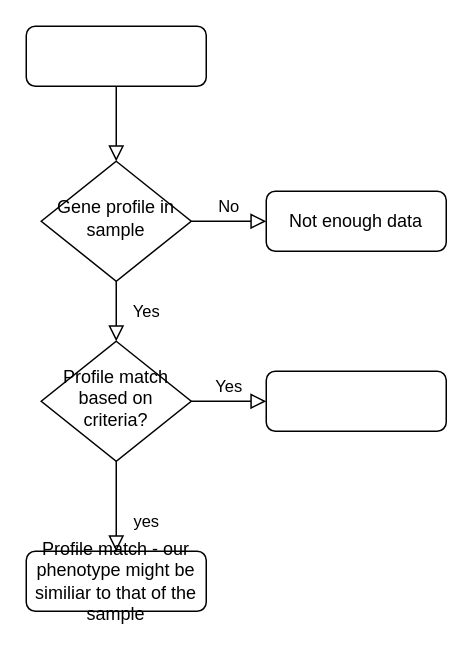
Image size: 473x651. Some labels were removed from this diagram. Each missing label, with the box of its shape:
Input gene expression profile: (25, 25, 206, 86)
No match for that sample: (265, 370, 446, 431)
